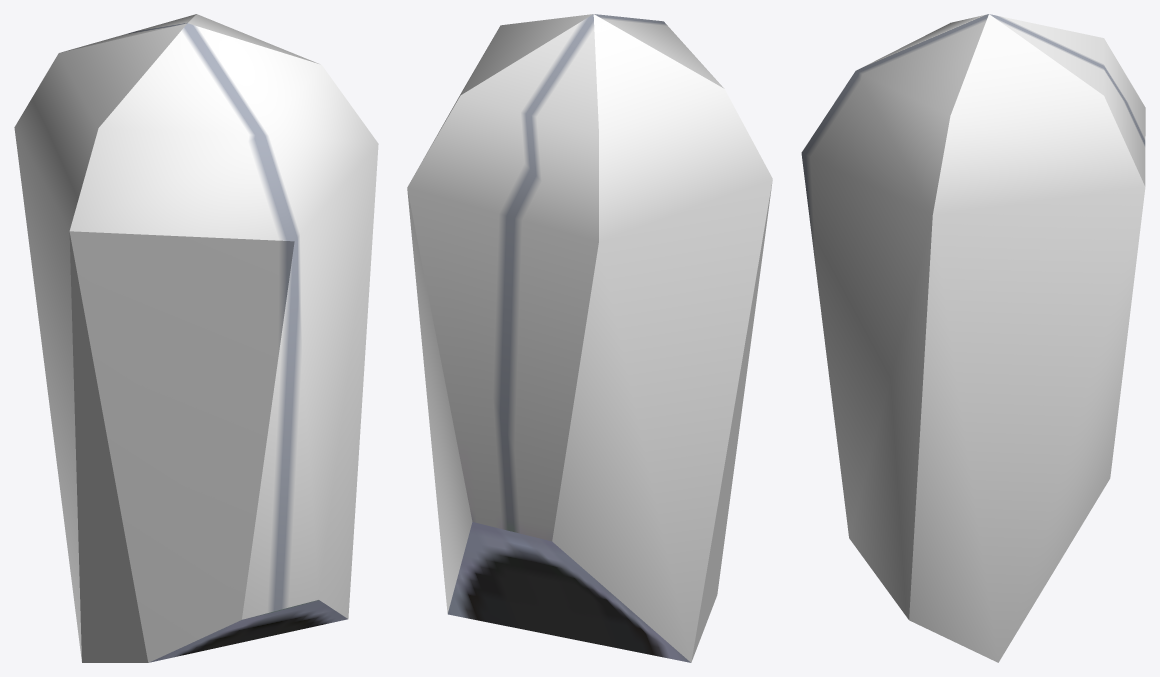
Rendered from buzzlightyLeftThigh.obj.
3 views of the same model, side by side, from view 1: azimuth 30°, elevation 25°; view 2: azimuth 150°, elevation 25°; view 3: azimuth 270°, elevation 25° (orthographic). The views are drawn at different scales.
Parts seen in each view (by area): view 1: buzzlightyLeftThigh_buzzlighty.019; view 2: buzzlightyLeftThigh_buzzlighty.019; view 3: buzzlightyLeftThigh_buzzlighty.019.
Boxes of the visible parts, box(x1,y1,x2,y2) form: buzzlightyLeftThigh_buzzlighty.019: box(14, 14, 378, 662); buzzlightyLeftThigh_buzzlighty.019: box(407, 14, 772, 662); buzzlightyLeftThigh_buzzlighty.019: box(801, 14, 1145, 662).
Bounding box in the file's own units: 0.091 × 0.1768 × 0.0942.
Materials: 1 (1 with a texture image).
